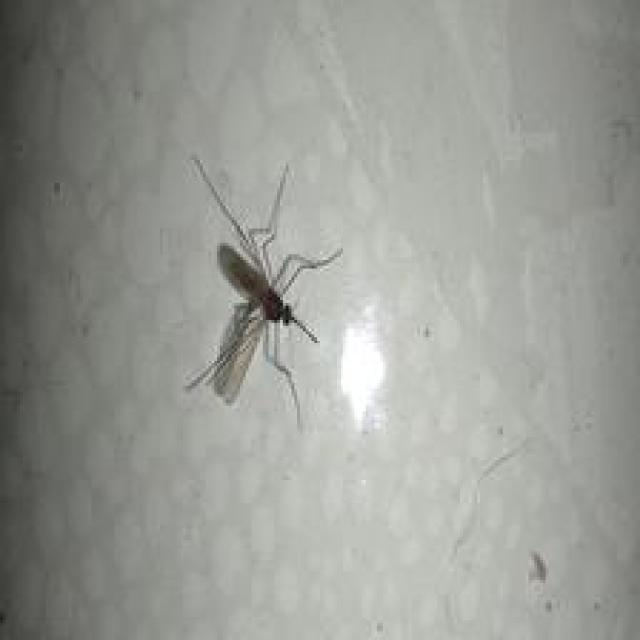Culex: (183, 154, 343, 432)
